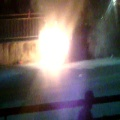fire: (37, 21, 70, 74)
